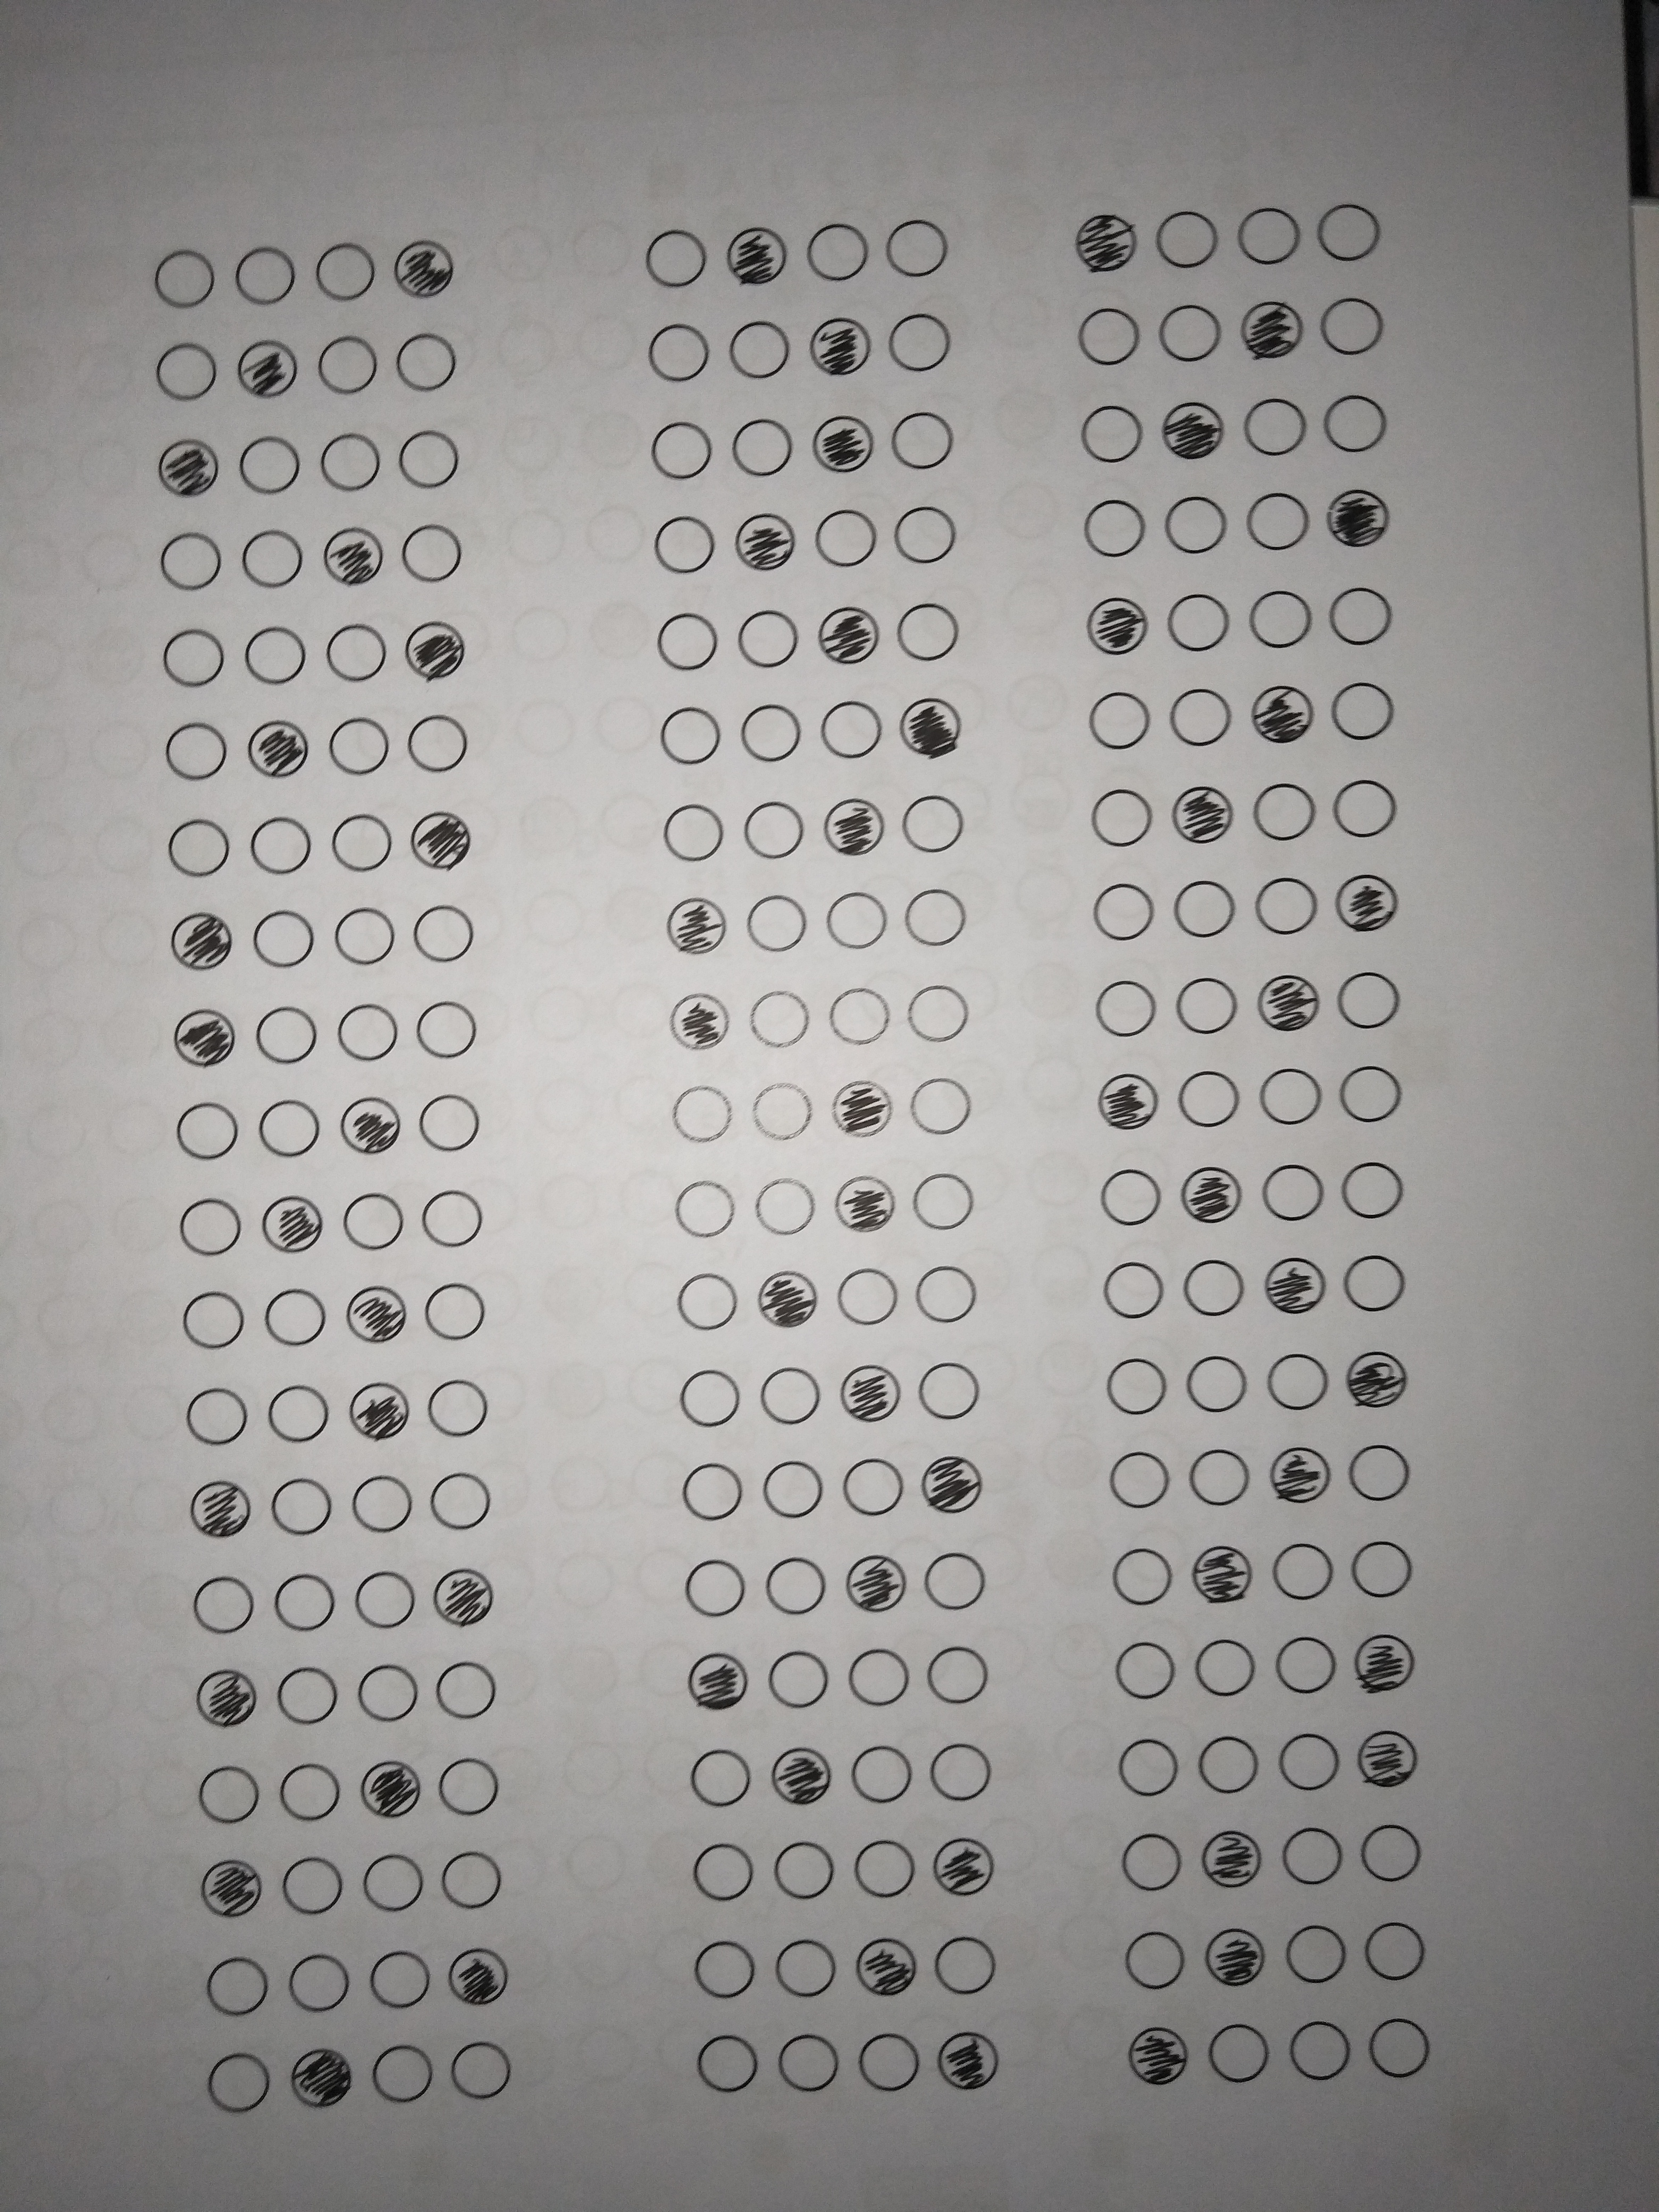not-c: (185, 1949, 279, 2031), (186, 2045, 282, 2121), (894, 1170, 986, 1245), (683, 2019, 763, 2104), (429, 1750, 516, 1825), (1342, 1433, 1424, 1512), (178, 1759, 267, 1831), (683, 1928, 763, 2006), (875, 308, 960, 381), (903, 1552, 990, 1623), (413, 1089, 493, 1165), (270, 1745, 347, 1825), (899, 880, 979, 956), (922, 1740, 1002, 1817), (404, 897, 486, 972), (763, 2027, 845, 2102), (896, 787, 974, 864), (1236, 388, 1316, 463), (880, 218, 962, 291), (1316, 291, 1399, 362), (655, 791, 730, 869), (1072, 401, 1150, 475), (1100, 1352, 1175, 1430), (638, 416, 718, 489), (683, 1742, 763, 1815), (366, 2040, 448, 2111), (272, 1853, 357, 1921), (1358, 1918, 1443, 1986), (349, 1573, 423, 1649), (889, 597, 965, 672), (901, 981, 978, 1055), (281, 1947, 359, 2020), (852, 2026, 924, 2106), (1154, 491, 1234, 563), (1255, 1064, 1335, 1136), (908, 1076, 990, 1146), (1330, 965, 1412, 1035), (146, 239, 221, 314), (1148, 294, 1225, 368), (817, 887, 896, 958), (1087, 970, 1166, 1042), (406, 995, 486, 1064), (1068, 491, 1148, 561), (1164, 1064, 1244, 1134), (1323, 775, 1406, 841), (653, 606, 728, 679), (1152, 202, 1225, 277), (1168, 878, 1243, 951), (1331, 1059, 1405, 1134), (1187, 1632, 1262, 1705), (723, 317, 800, 388), (927, 1926, 1004, 1998), (1230, 204, 1307, 275), (1316, 199, 1387, 275), (762, 1836, 840, 1905), (1087, 878, 1166, 948), (680, 1839, 760, 1907), (800, 218, 873, 291), (240, 622, 315, 693), (242, 812, 314, 887), (251, 998, 326, 1069), (336, 1184, 408, 1259), (1164, 681, 1239, 752), (242, 904, 319, 974), (253, 1287, 329, 1357), (1068, 301, 1145, 371), (892, 503, 971, 571), (1084, 779, 1155, 852), (1202, 2015, 1276, 2087), (176, 1285, 251, 1355), (1103, 1449, 1178, 1519), (1087, 1162, 1164, 1230), (911, 1263, 990, 1329), (1114, 1928, 1192, 1994), (1185, 1731, 1265, 1796), (728, 416, 800, 488), (810, 502, 882, 573), (640, 221, 709, 294), (735, 890, 809, 960), (1319, 388, 1392, 458), (1178, 1352, 1251, 1421), (235, 528, 310, 596), (812, 700, 887, 768), (741, 791, 809, 866), (261, 1383, 338, 1449), (450, 2040, 526, 2106), (1114, 1829, 1194, 1892), (159, 718, 230, 787), (162, 812, 234, 881), (1080, 688, 1152, 758), (1094, 1254, 1166, 1324), (1108, 1629, 1178, 1700), (401, 517, 474, 585), (176, 1193, 249, 1261), (179, 1383, 253, 1451), (364, 1947, 437, 2015), (657, 700, 730, 768), (671, 1176, 744, 1244), (833, 1268, 906, 1336), (755, 1458, 828, 1526), (680, 1461, 753, 1529), (760, 1648, 833, 1716), (1338, 1251, 1412, 1318), (1277, 1825, 1351, 1893), (328, 808, 394, 883), (835, 1453, 910, 1519), (1173, 1259, 1248, 1325), (1182, 1446, 1256, 1512), (335, 991, 399, 1068), (1244, 780, 1323, 843), (265, 1665, 345, 1726), (1265, 1541, 1345, 1602), (173, 1099, 242, 1169), (427, 1468, 497, 1538), (843, 1742, 913, 1811), (850, 1836, 920, 1905), (772, 1937, 842, 2006), (1366, 2013, 1436, 2083), (333, 904, 401, 975), (826, 986, 894, 1057), (680, 1555, 751, 1623), (1270, 1630, 1338, 1702), (1286, 2019, 1358, 2087), (430, 1851, 512, 1911), (324, 712, 390, 786), (343, 1474, 416, 1540), (1277, 1921, 1351, 1987), (415, 1184, 490, 1249), (181, 1571, 258, 1634), (1272, 1731, 1349, 1794), (394, 331, 462, 401), (153, 338, 223, 406), (667, 1076, 735, 1146), (845, 1646, 915, 1714), (235, 435, 307, 502), (317, 425, 383, 496), (159, 625, 230, 691), (763, 1364, 829, 1435), (1173, 974, 1244, 1040), (1107, 1543, 1178, 1609), (641, 322, 714, 387), (739, 604, 803, 678), (1324, 585, 1398, 650), (1255, 1162, 1328, 1226), (1338, 1162, 1412, 1226), (674, 1273, 751, 1334), (355, 1855, 434, 1914), (312, 239, 380, 307), (321, 620, 389, 688), (889, 409, 958, 475), (744, 986, 814, 1052), (1262, 1350, 1331, 1416), (1345, 1538, 1412, 1608), (1115, 1735, 1185, 1801), (406, 709, 471, 780), (924, 1644, 995, 1709), (763, 1559, 836, 1622), (1326, 681, 1399, 744), (430, 1662, 505, 1723), (1244, 589, 1319, 650), (751, 1078, 819, 1144), (676, 1369, 744, 1435), (230, 246, 300, 310), (650, 514, 720, 578), (739, 698, 803, 768), (1251, 874, 1321, 939), (915, 1359, 986, 1421), (1239, 488, 1312, 549), (396, 428, 462, 495), (157, 531, 227, 594), (253, 1101, 324, 1162), (265, 1479, 340, 1536), (315, 333, 382, 397), (1359, 1820, 1424, 1886), (423, 1280, 491, 1343), (270, 1573, 338, 1634), (355, 1660, 425, 1719), (425, 1378, 490, 1440), (1164, 594, 1227, 653), (756, 1177, 814, 1242)
taken-c: (1324, 484, 1394, 552), (166, 907, 235, 974), (1330, 869, 1401, 934), (289, 2045, 355, 2113), (1249, 681, 1317, 747), (1124, 2022, 1190, 2090), (152, 435, 221, 500), (244, 714, 310, 780), (809, 314, 875, 380), (810, 409, 877, 475), (730, 509, 798, 573), (664, 988, 732, 1052), (845, 1548, 910, 1616), (856, 1932, 920, 2000), (1159, 397, 1227, 462), (1344, 1348, 1412, 1413), (725, 225, 795, 287), (173, 1005, 237, 1071), (199, 1855, 265, 1919), (816, 601, 880, 667), (821, 791, 885, 857), (934, 2027, 1000, 2092), (1263, 1251, 1330, 1315), (1267, 1442, 1333, 1507), (392, 237, 457, 301), (403, 617, 467, 681), (261, 1191, 326, 1256), (897, 693, 962, 758), (1190, 1540, 1255, 1604), (343, 1284, 410, 1346), (446, 1944, 512, 2006), (1237, 298, 1303, 361), (1256, 970, 1323, 1033), (1178, 1163, 1244, 1226), (681, 1649, 749, 1710), (234, 338, 298, 401), (347, 1379, 410, 1444), (190, 1479, 254, 1541), (195, 1667, 260, 1730), (662, 895, 727, 958), (838, 1360, 901, 1425), (920, 1453, 985, 1515), (1354, 1630, 1417, 1695), (1358, 1724, 1420, 1789), (1201, 1925, 1265, 1987), (336, 1097, 403, 1158), (833, 1075, 894, 1141), (833, 1172, 899, 1233), (1073, 212, 1140, 273), (1084, 597, 1154, 655), (361, 1757, 423, 1820), (756, 1266, 819, 1329), (934, 1836, 997, 1898), (772, 1742, 833, 1806), (324, 528, 385, 590), (410, 808, 471, 871), (434, 1566, 497, 1627), (1202, 1825, 1263, 1888), (1169, 784, 1234, 843), (1094, 1073, 1161, 1130)
